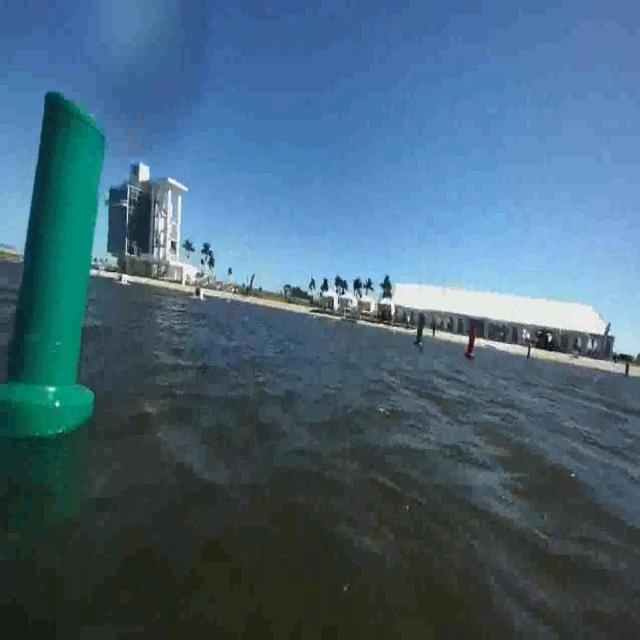green-column-buoy: (1, 83, 111, 427), (414, 314, 427, 350)
red-column-buoy: (467, 324, 480, 362)
